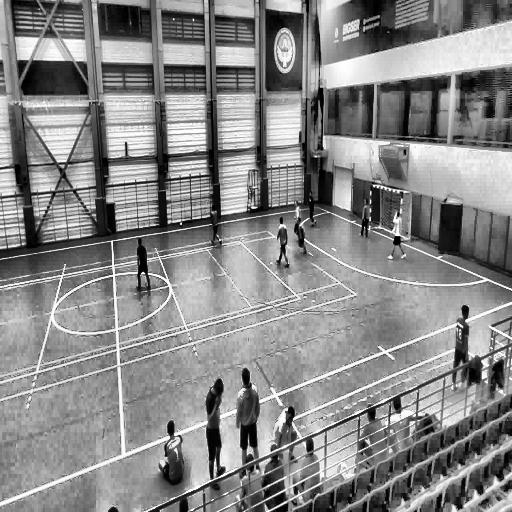ball: (179, 220, 184, 227)
player: (159, 421, 187, 510), (236, 368, 259, 468), (206, 378, 225, 487), (451, 305, 470, 387), (388, 208, 404, 260), (137, 238, 151, 290), (276, 216, 290, 268), (294, 215, 307, 256), (360, 197, 371, 239), (211, 204, 222, 245), (292, 198, 302, 235), (307, 190, 315, 226)
